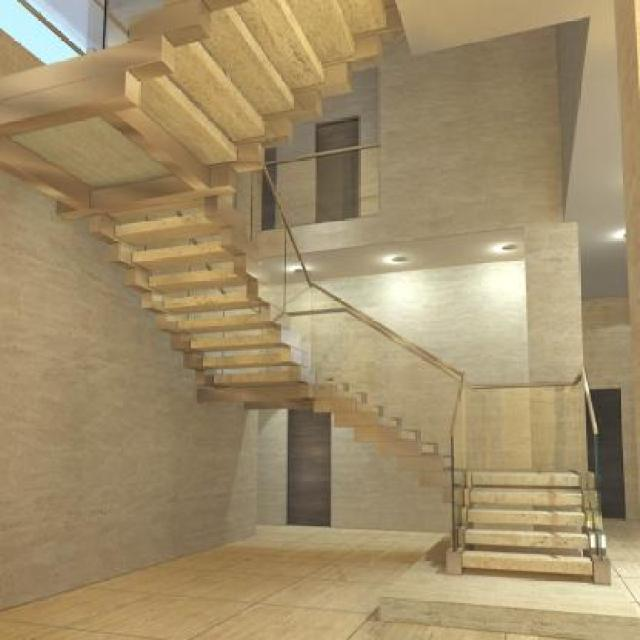stair: (124, 179, 618, 601)
